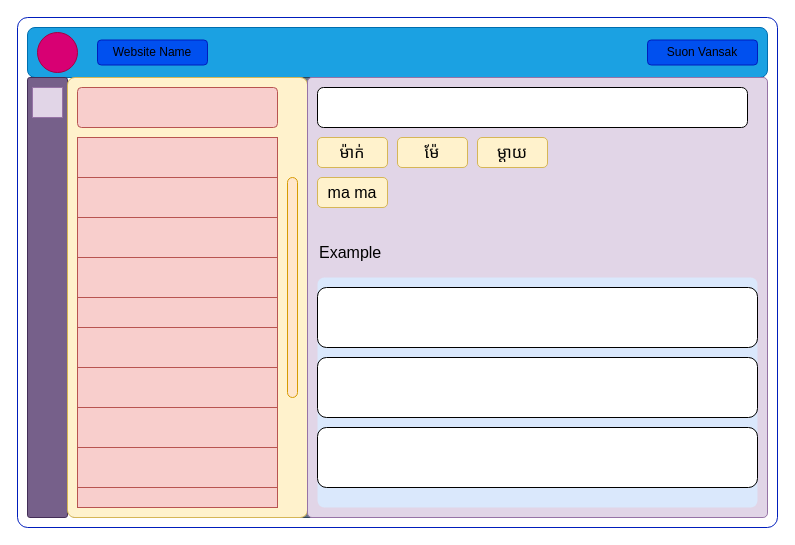
This 795x545 diagram has some shape labels left out. Each missing label, with the box of its shape:
LO GO: (36, 32, 78, 72)
妈妈 《媽媽》: (316, 86, 748, 128)
